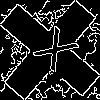X: (25, 25, 80, 81)
